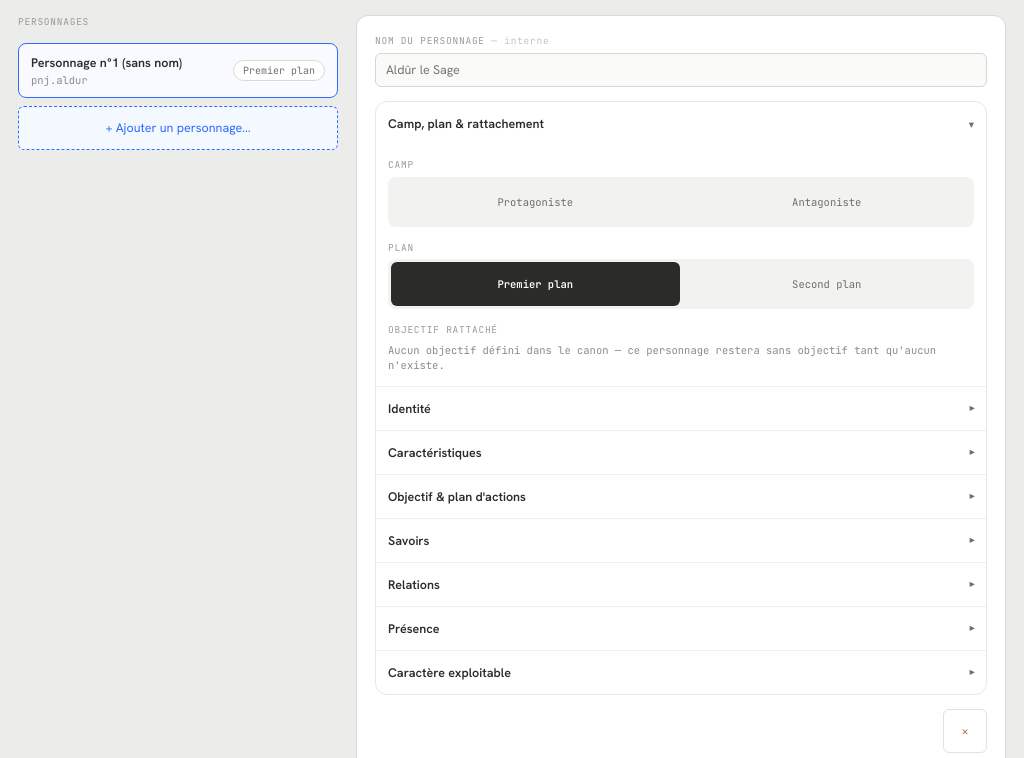
FichePersonnage - bloc Savoirs › etat vide monde.objets : seule la porte contrepartie est indisponible
Click the button "Savoirs ▾" at (409, 540), box [376,518,986,562]
(page scrolled)
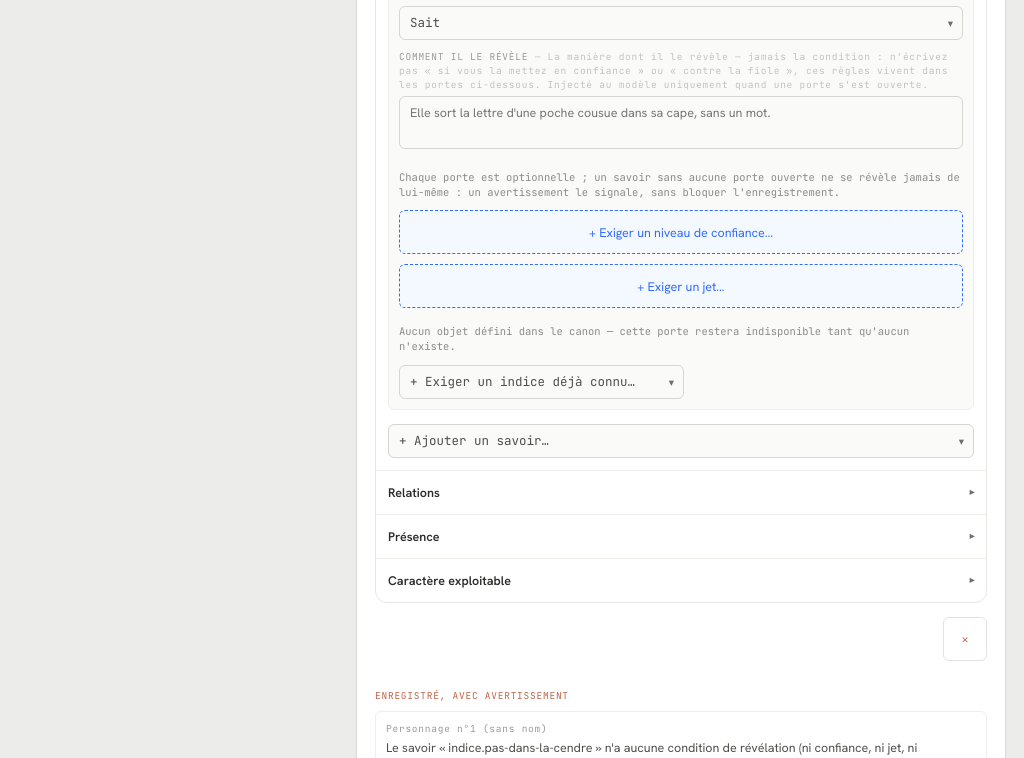
Check: the text "Aucun objet défini dans le canon — cette porte restera indisponible tant qu'aucun n'existe." is shown, box [399,324,909,353]
Check: the button "+ Exiger un niveau de confiance…" is shown, box [399,210,963,254]
Check: the button "+ Exiger un jet…" is shown, box [399,264,963,308]
